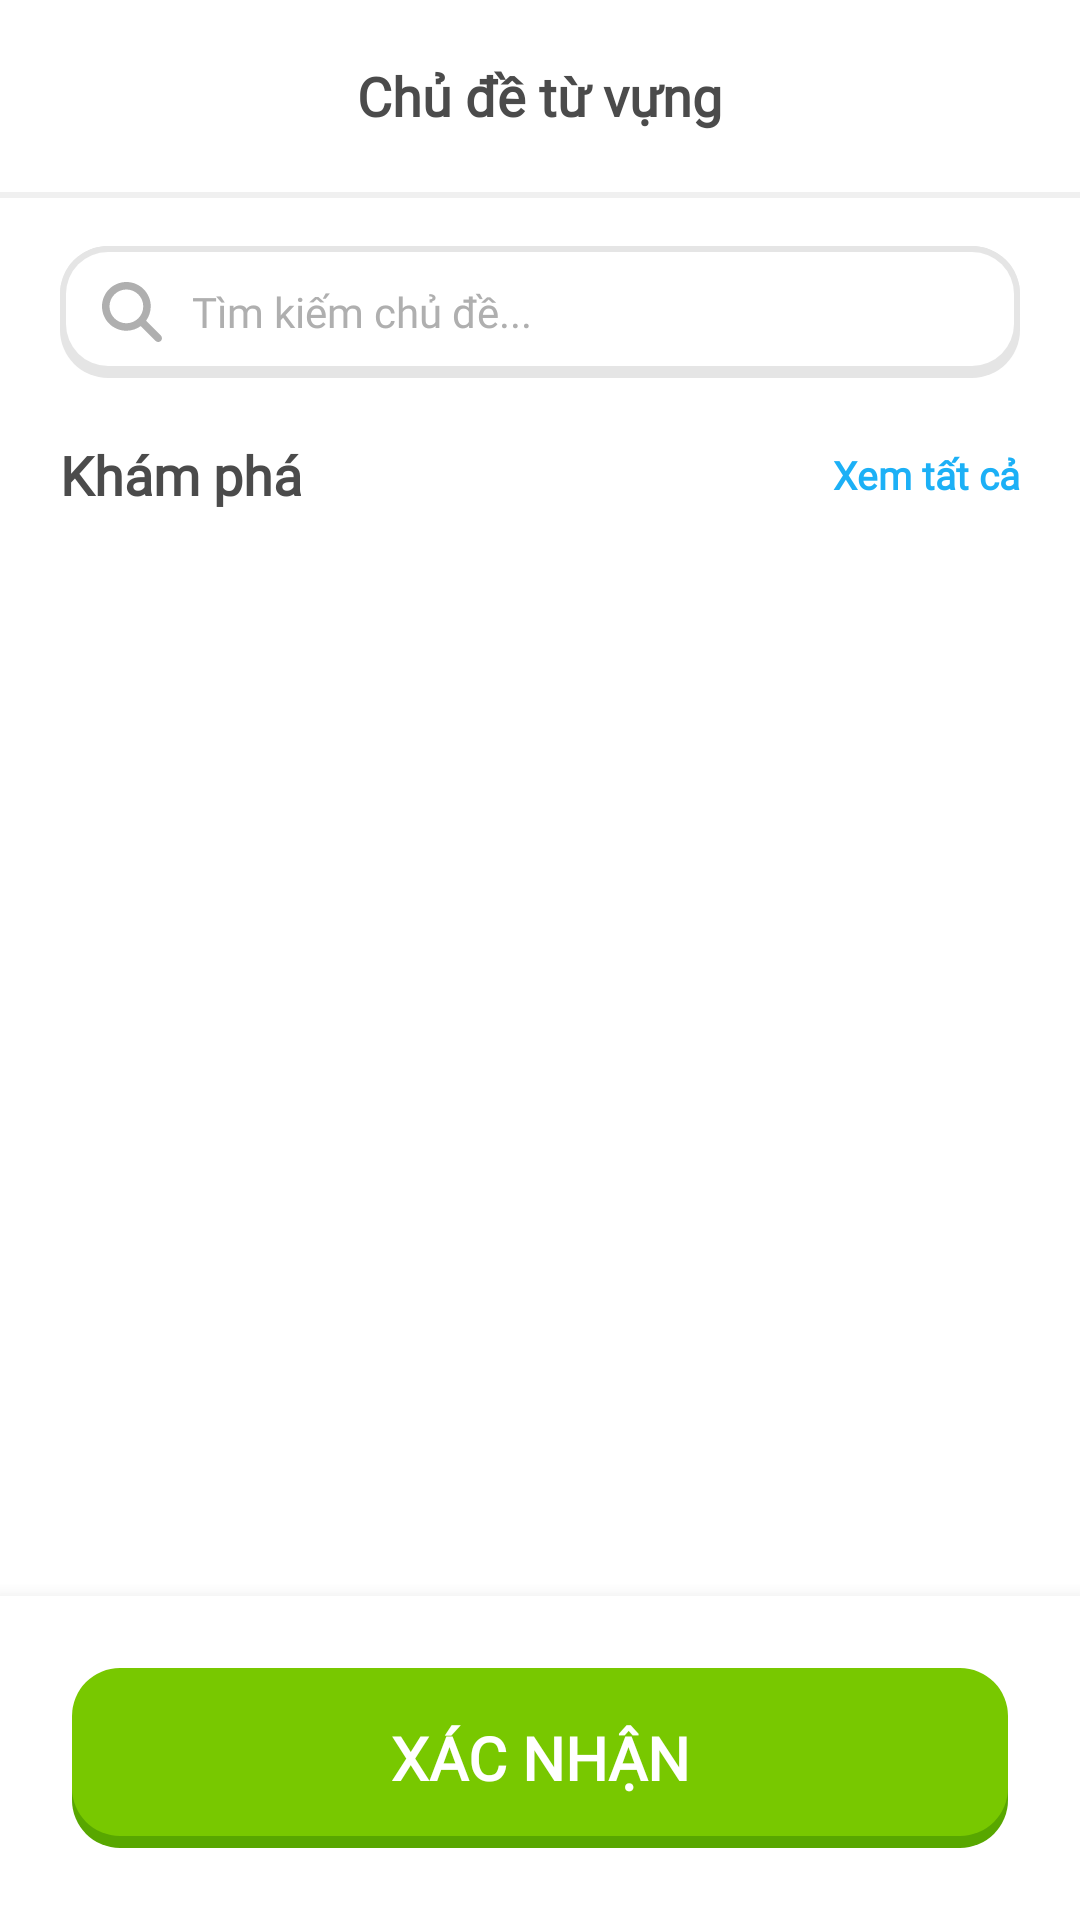

Icons on this 1080 × 1920 Android screen, each with the point to tap as (x=x, y=y):
search: (x=132, y=312)
